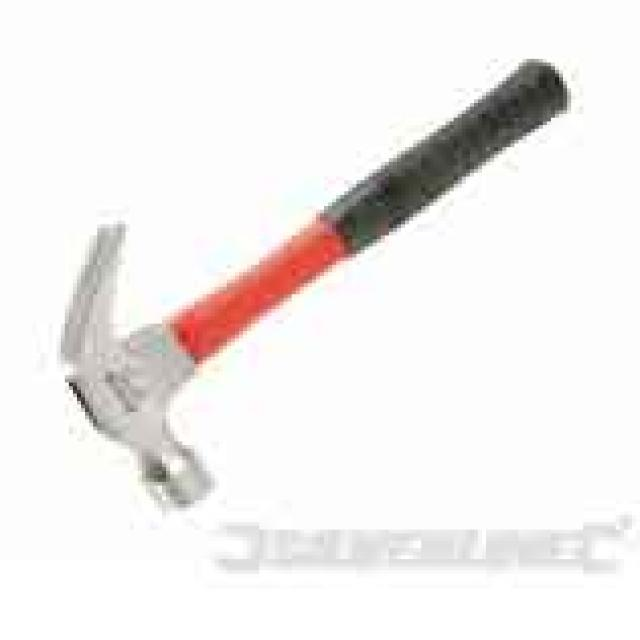hammer: (39, 47, 580, 520)
